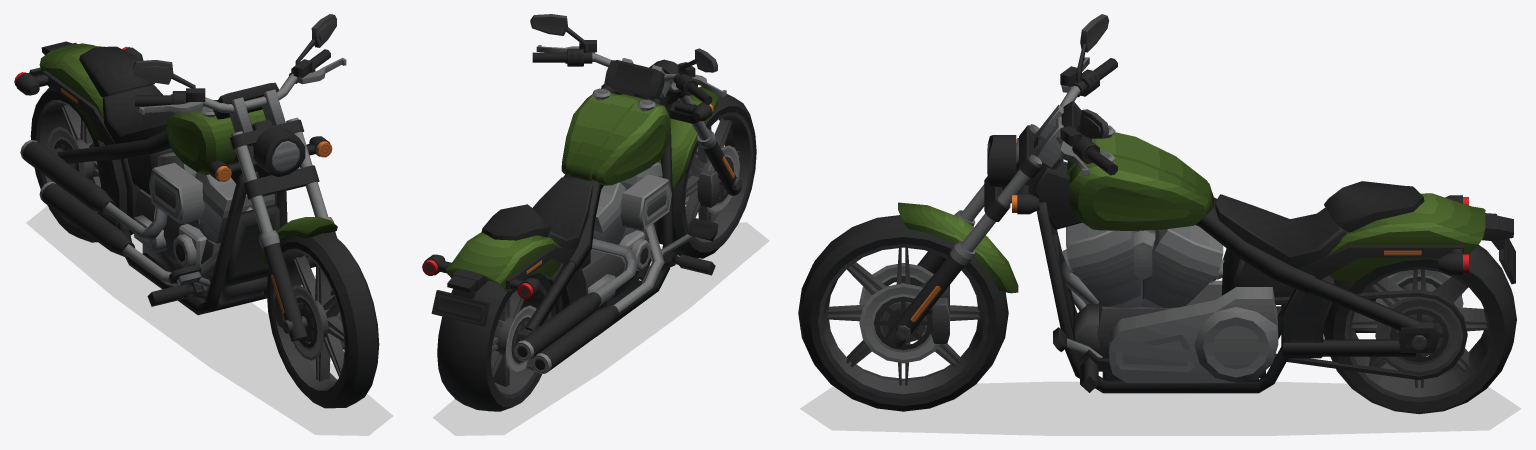
The model's file is Sketch2020AmericanCruiser.fbx.
3 views of the same model, side by side, from view 1: azimuth 30°, elevation 25°; view 2: azimuth 150°, elevation 25°; view 3: azimuth 270°, elevation 25° (orthographic). The views are drawn at different scales.
Parts seen in each view (by area): view 1: Body, Steer, Shadow, Wheel_0, Wheel_1; view 2: Body, Shadow, Steer, Wheel_1, Wheel_0; view 3: Body, Shadow, Wheel_0, Wheel_1, Steer.
Part boxes in pixels (x1,y1,x2,y2): Body: (14,41,316,315); Steer: (132,14,346,341); Shadow: (26,205,392,435); Wheel_0: (266,232,379,408); Wheel_1: (30,87,133,242); Body: (422,88,718,373); Shadow: (432,222,769,435); Steer: (530,14,742,207); Wheel_1: (437,272,556,411); Wheel_0: (672,94,756,258); Body: (1002,125,1515,393); Shadow: (800,381,1521,435); Wheel_0: (798,215,1008,411); Wheel_1: (1323,245,1516,414); Steer: (886,14,1117,347).
Size of the model in its own units: 87.79 by 123 by 237.
